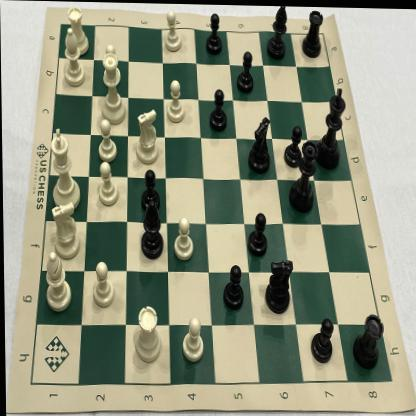black-bishop: (137, 198, 166, 261), (266, 5, 289, 61)
black-king: (315, 84, 348, 169)
black-knight: (263, 255, 293, 314), (246, 113, 271, 176)
black-pawn: (243, 208, 269, 259), (306, 315, 333, 364), (221, 260, 244, 311), (208, 85, 229, 134), (204, 10, 225, 56), (139, 167, 159, 214), (283, 123, 302, 170), (236, 49, 255, 96)
black-queen: (287, 140, 318, 219)
black-rook: (349, 310, 384, 369), (301, 6, 326, 59)
white-bishop: (42, 251, 73, 313), (61, 27, 86, 88)
white-king: (47, 127, 80, 211)
white-knight: (49, 201, 82, 260), (134, 108, 160, 165)
white-pawn: (178, 314, 204, 366), (90, 260, 116, 310), (95, 158, 119, 208), (172, 213, 194, 263), (97, 117, 118, 165), (165, 77, 186, 124), (162, 7, 183, 54), (101, 43, 122, 86)
white-queen: (98, 52, 128, 126)
white-rook: (132, 302, 161, 365), (66, 4, 89, 56)
